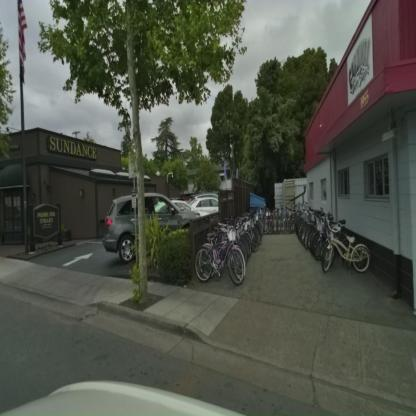bicycle: (193, 224, 247, 284), (320, 216, 371, 273)
car: (104, 191, 202, 262), (187, 195, 219, 219)
